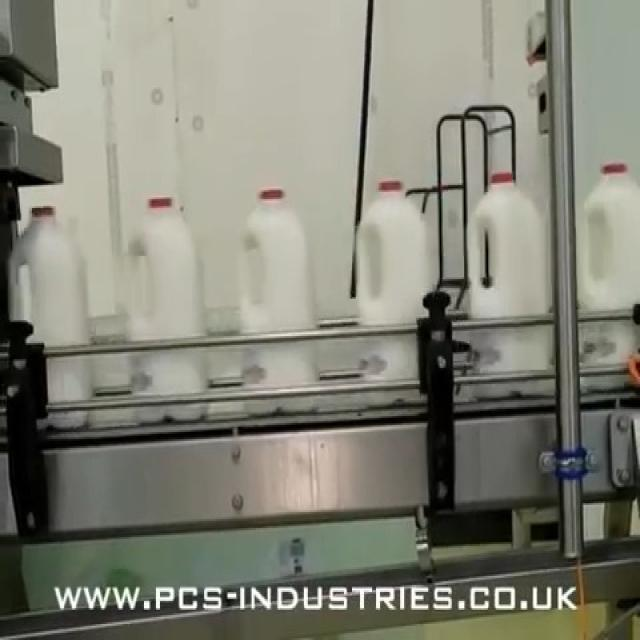milk: (229, 183, 329, 425), (116, 191, 214, 430), (1, 196, 98, 433), (348, 176, 440, 409), (468, 169, 554, 385), (572, 148, 640, 375)
